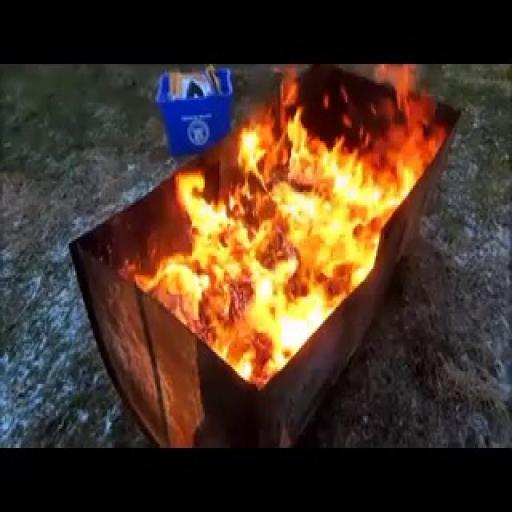smoke: (152, 66, 434, 388)
